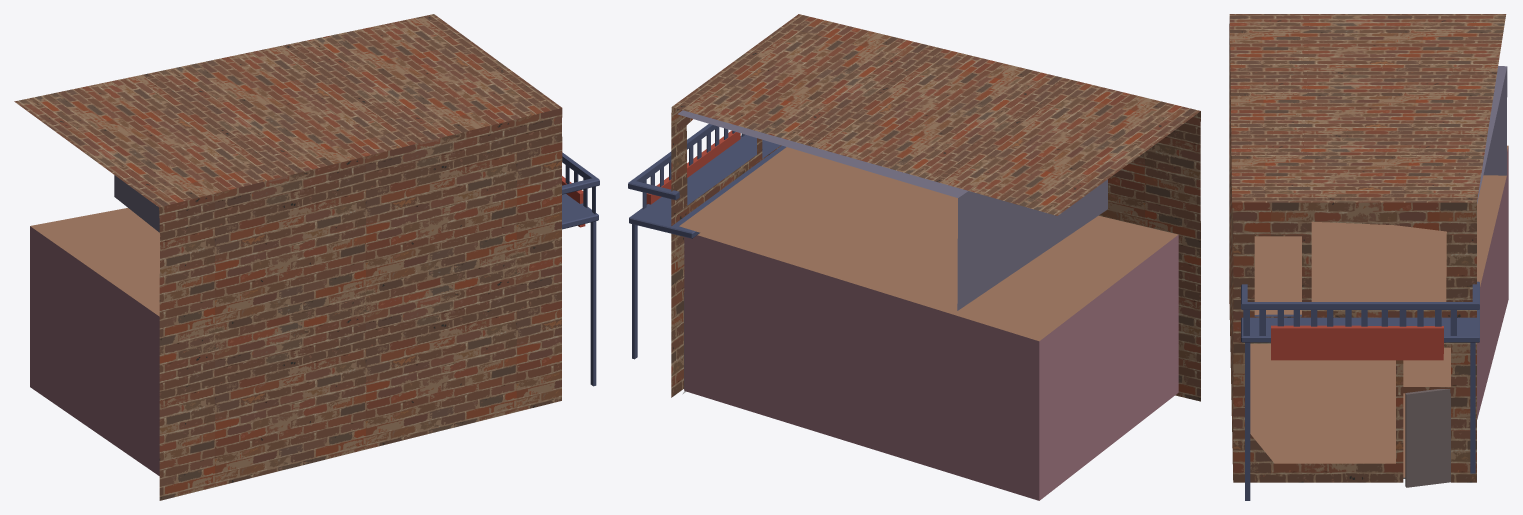
Rendered from Pastry Shop 1.fbx.
3 views of the same model, side by side, from view 1: azimuth 30°, elevation 25°; view 2: azimuth 150°, elevation 25°; view 3: azimuth 270°, elevation 25° (orthographic). The views are drawn at different scales.
Parts seen in each view (by area): view 1: polySurface1326; view 2: polySurface1326; view 3: polySurface1326.
Boxes of the visible parts, left/top/right/bottom form: polySurface1326: left=14, top=14, right=599, bottom=500; polySurface1326: left=628, top=14, right=1200, bottom=500; polySurface1326: left=1229, top=14, right=1508, bottom=500.
Bounding box in the file's own units: 61.66 × 38.58 × 34.87.
